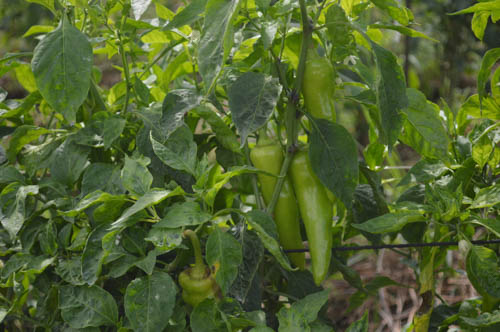ChiliPepper: (251, 147, 301, 269), (293, 152, 335, 281), (301, 58, 335, 121), (177, 270, 207, 307)
